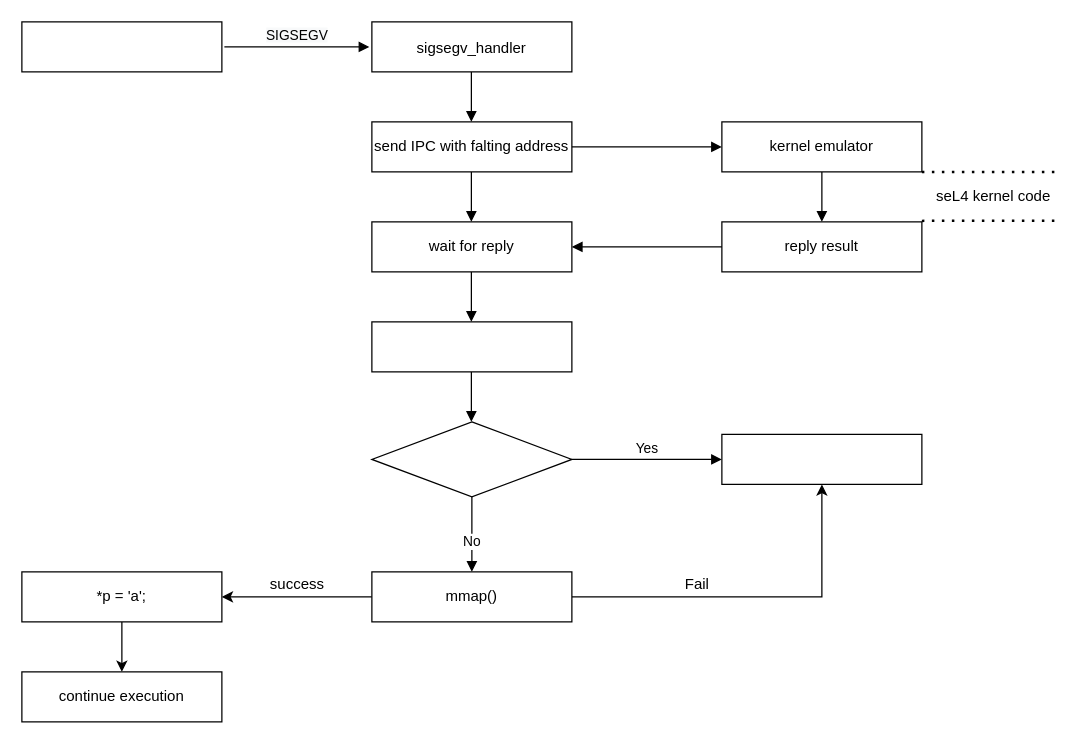
The diagram is 1084 pixels wide and 744 high, and some of its shapes have lost their labels. The shapes that lost their labels are listed below. From the top down, each one's centre as x and y in pixels, then its label:
(x=121, y=46): char *p = 0x80000; *p = 'a';
(x=471, y=346): check the reply result
(x=471, y=459): error ?
(x=821, y=458): halt
